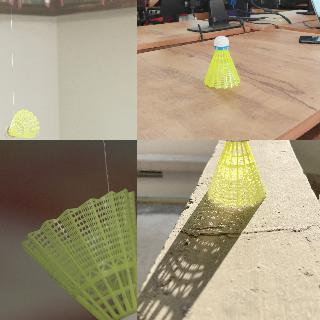shuttlecock: (20, 189, 136, 319), (207, 140, 266, 207), (204, 34, 240, 88), (4, 110, 38, 138)
